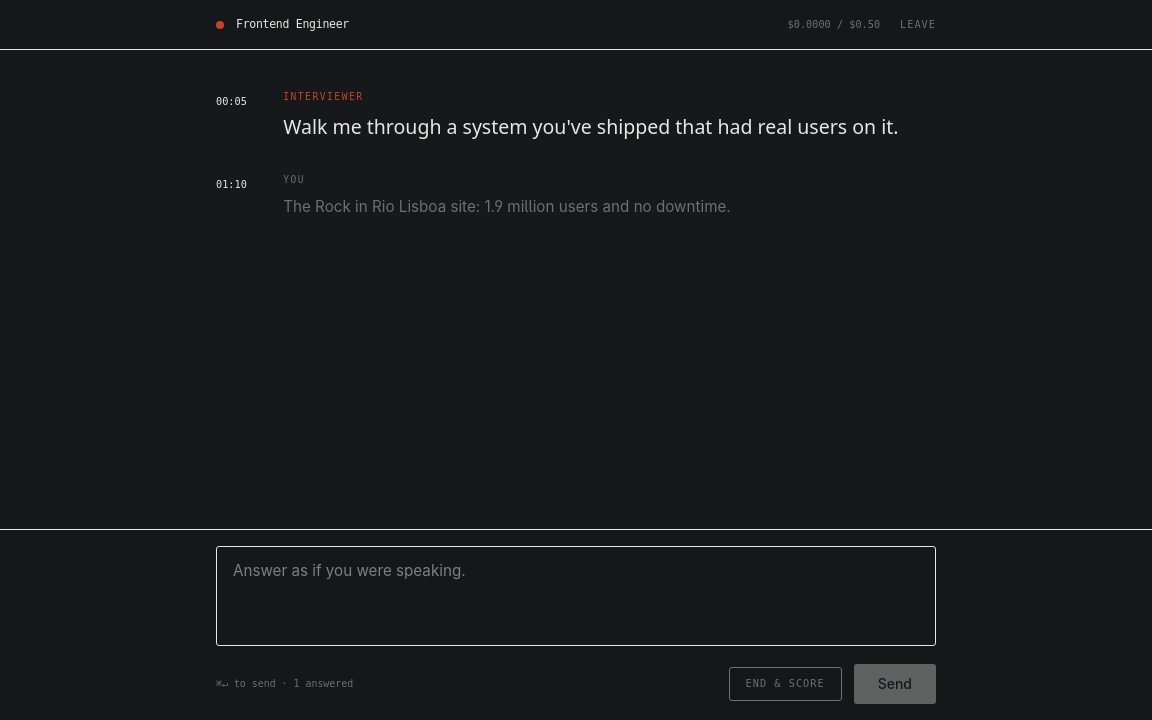
Test: answering › ends the interview and shows the scorecard in place of the composer
Check: the text "The Rock in Rio Lisboa site: 1.9 million users and no downtime." is shown, box [283,197,731,216]
Click the button "End & score" at (785, 684), box [729,667,842,701]
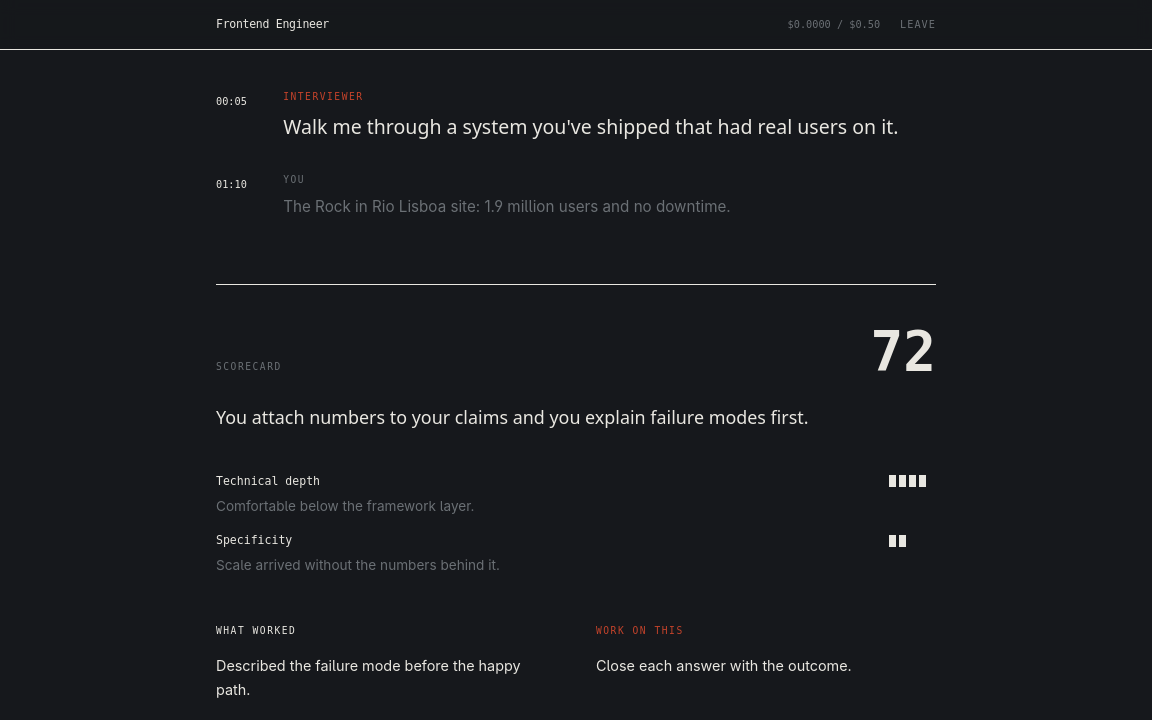
Check: the text "You attach numbers to your claims and you explain failure modes first." is shown, box [216,406,809,430]
Check: the text "72" is shown, box [870,325,936,379]
Check: the element named "2 out of 5" is shown, box [889,535,906,547]
